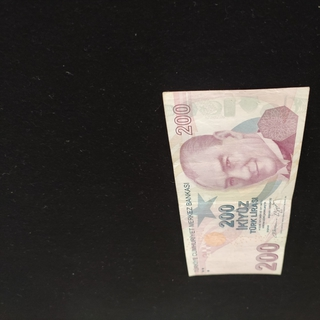200TLFront: (162, 86, 310, 276)
